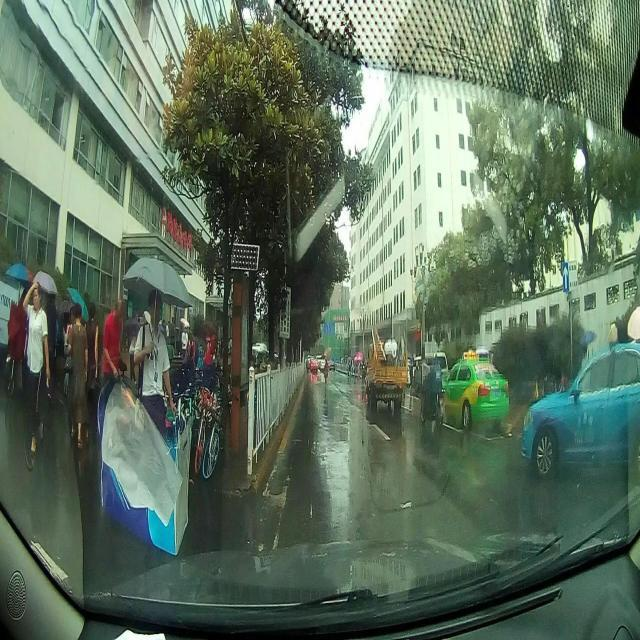car: (520, 342, 638, 479), (440, 353, 508, 430)
